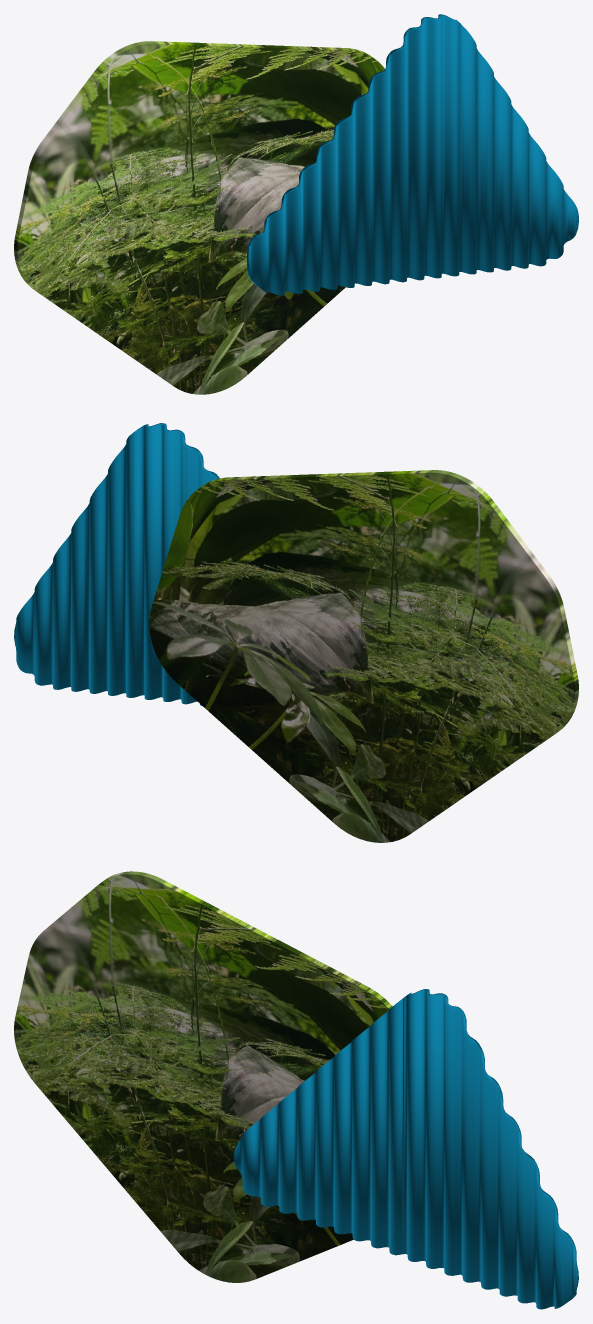
File: storey.gltf
3 renders of one model, top to bottom at view 1: azimuth 30°, elevation 25°; view 2: azimuth 150°, elevation 25°; view 3: azimuth 330°, elevation 25°, orthographic. The views are drawn at different scales.
Parts seen in each view (by area): view 1: Hex, Triangle; view 2: Hex, Triangle; view 3: Hex, Triangle.
Part boxes in pixels (<box>): Hex: <box>14,41,384,394</box>; Triangle: <box>247,14,578,295</box>; Hex: <box>149,470,578,842</box>; Triangle: <box>14,423,219,705</box>; Hex: <box>14,871,392,1282</box>; Triangle: <box>233,989,578,1309</box>.
Bounding box in the file's own units: 0.1675 × 0.107 × 0.00922.
2 materials, 1 textured.
